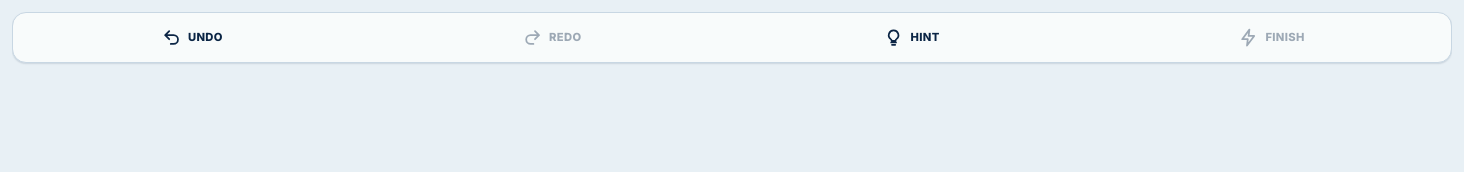
Test: Toolbar › undoes the last move by pointer, showing the earlier position and enabling Redo
The image size is (1464, 172).
Expected: the button "Redo" is disabled, [375,15,729,59]
Click the button "Undo" at [192, 37], box [15,15,369,59]
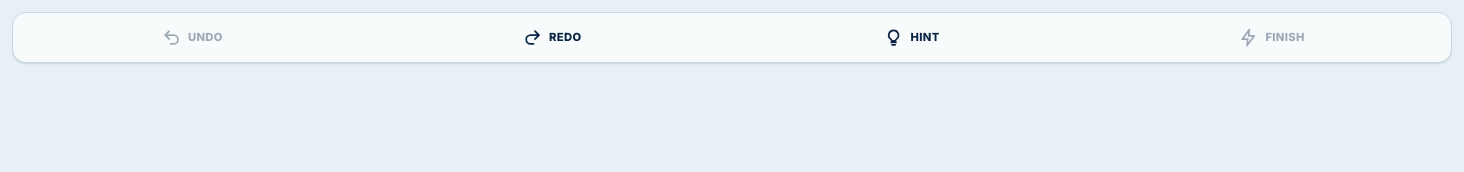
Now the button "Redo" is enabled, box [375,15,729,59]
Now the button "Undo" is disabled, box [15,15,369,59]
